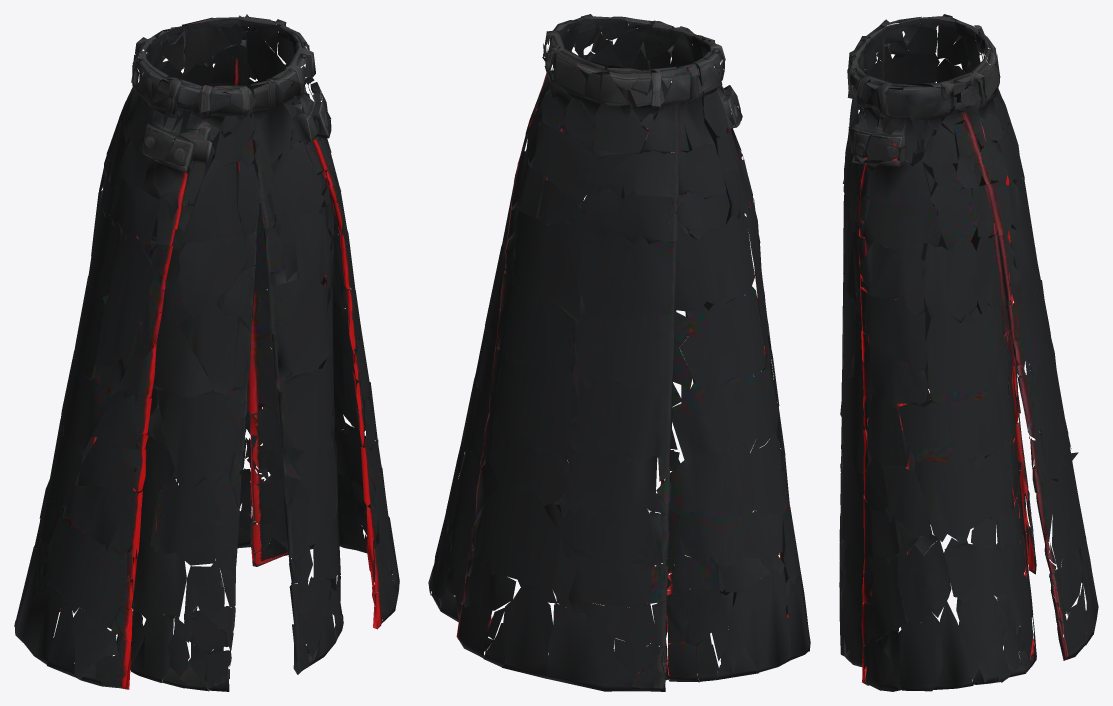
Rendered from coat.glb.
3 renders of one model, left to right at view 1: azimuth 30°, elevation 25°; view 2: azimuth 150°, elevation 25°; view 3: azimuth 270°, elevation 25°, orthographic. The views are drawn at different scales.
Visible parts, largest first — view 1: Mesh_0; view 2: Mesh_0; view 3: Mesh_0.
Part boxes in pixels (left/top/right/bottom): Mesh_0: left=14, top=14, right=399, bottom=691; Mesh_0: left=428, top=14, right=810, bottom=691; Mesh_0: left=839, top=14, right=1098, bottom=691.
Size of the model in its own units: 1.19 by 1.9 by 0.757.
1 material, 1 textured.
